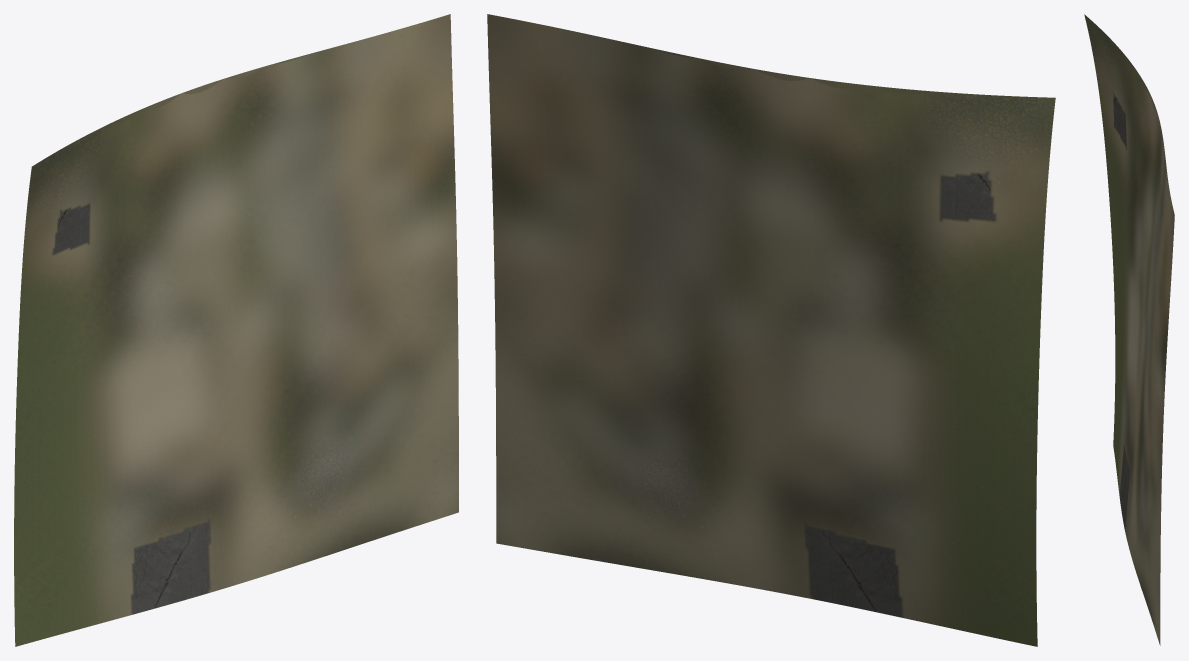
The model's file is ground_core_05_07.obj.
3 renders of one model, left to right at view 1: azimuth 30°, elevation 25°; view 2: azimuth 150°, elevation 25°; view 3: azimuth 270°, elevation 25°, orthographic. The views are drawn at different scales.
Visible parts, largest first — view 1: ground_core_05_07; view 2: ground_core_05_07; view 3: ground_core_05_07.
Part boxes in pixels (x1,y1,x2,y2): ground_core_05_07: (14, 14, 458, 646); ground_core_05_07: (487, 14, 1055, 646); ground_core_05_07: (1084, 14, 1174, 645).
Size of the model in its own units: 50 by 50 by 9.52.
Materials: 1 (1 with a texture image).
